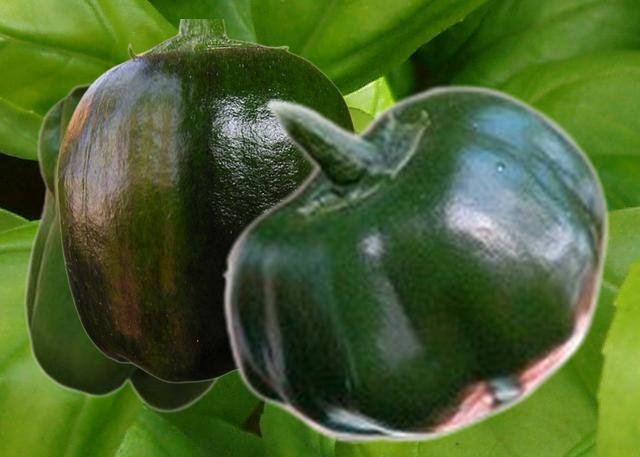bell_pepper: (220, 83, 609, 442), (56, 19, 357, 382), (23, 81, 220, 412)
